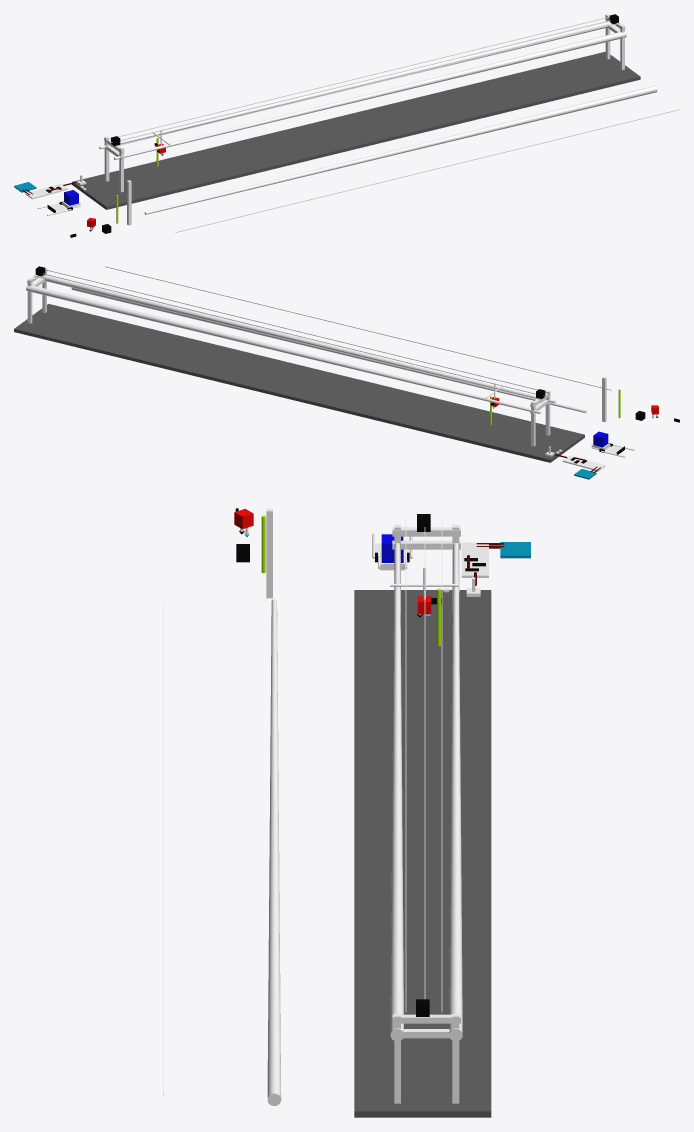
The model's file is referencia_mesa.gltf.
3 views of the same model, one above another, from view 1: azimuth 30°, elevation 25°; view 2: azimuth 150°, elevation 25°; view 3: azimuth 270°, elevation 25° (orthographic). The views are drawn at different scales.
Parts seen in each view (by area): view 1: BasePrincipal, RielDelantero2, RielDelantero, RielTrasero, Correa3, Correa4, Correa2, Correa; view 2: BasePrincipal, RielTrasero, RielDelantero, RielDelantero2, Correa2, Correa4, Correa3, Correa; view 3: BasePrincipal, RielDelantero2, RielDelantero, RielTrasero, Correa2, Correa3, Correa.
Part boxes in pixels (<box>): BasePrincipal: <box>72,51,640,209</box>; RielDelantero2: <box>144,85,657,214</box>; RielDelantero: <box>114,31,626,159</box>; RielTrasero: <box>99,21,611,149</box>; Correa3: <box>115,23,619,146</box>; Correa4: <box>175,109,679,232</box>; Correa2: <box>106,16,609,139</box>; Correa: <box>111,20,610,142</box>; BasePrincipal: <box>14,304,584,462</box>; RielTrasero: <box>26,285,540,413</box>; RielDelantero: <box>41,275,555,403</box>; RielDelantero2: <box>71,287,586,413</box>; Correa2: <box>34,275,540,399</box>; Correa4: <box>105,266,611,390</box>; Correa3: <box>45,269,549,393</box>; Correa: <box>43,273,545,396</box>; BasePrincipal: <box>354,590,491,1117</box>; RielDelantero2: <box>267,599,281,1105</box>; RielDelantero: <box>390,543,404,1041</box>; RielTrasero: <box>449,543,462,1041</box>; Correa2: <box>441,519,442,1012</box>; Correa3: <box>405,519,406,1012</box>; Correa: <box>424,527,425,998</box>.
Size of the model in its own units: 101 by 8.57 by 26.86.
